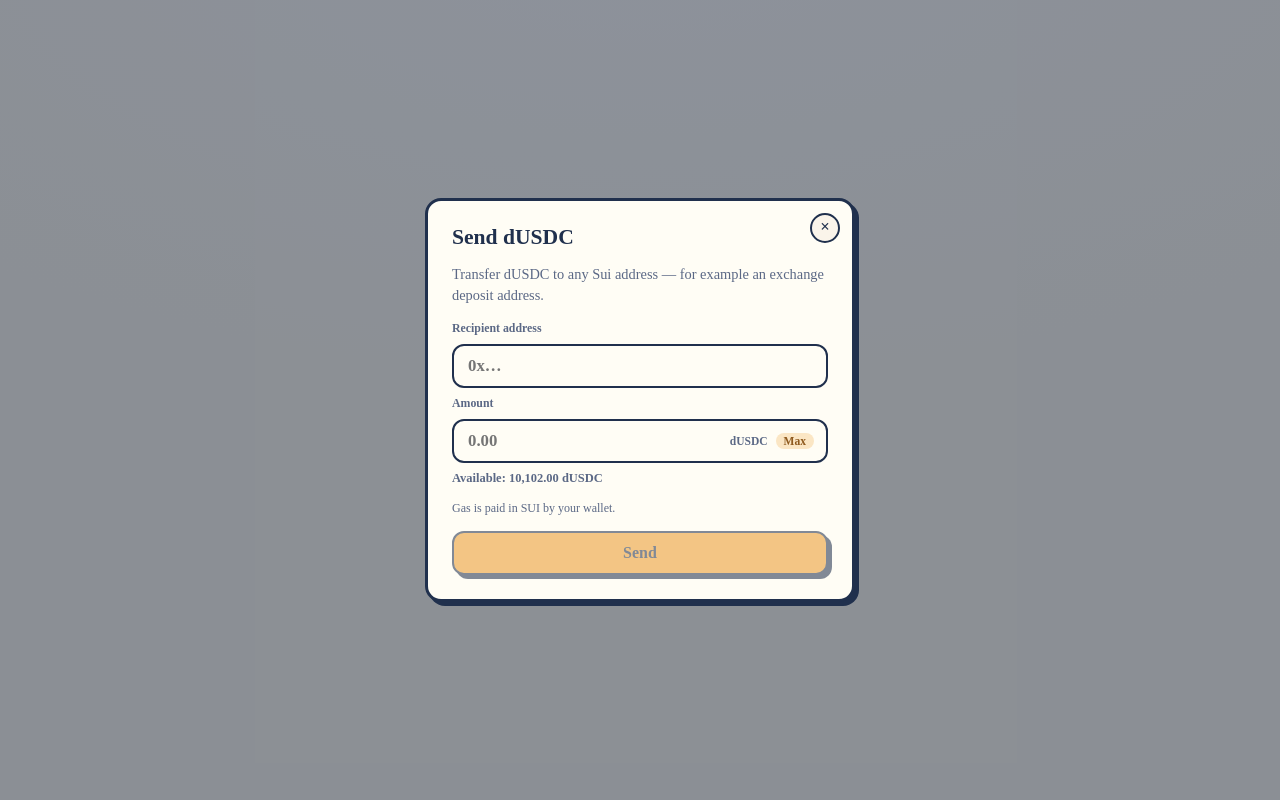
SendDialog form › keeps the plain CTA while the amount exceeds Available, with the inline error
Type "999999" into the field labelled "Amount dUSDC Max".
click(595, 441); type("999999")  # box [466,430,724,452]
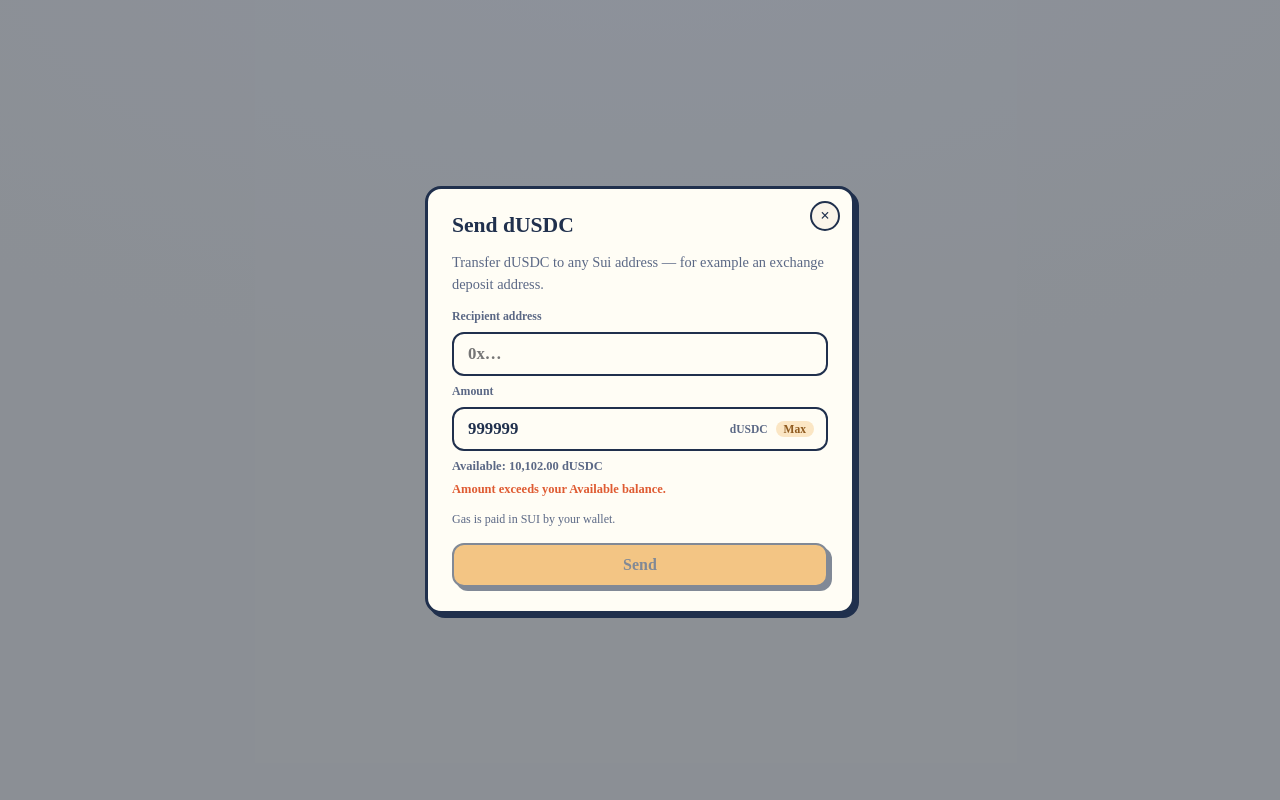
Expected: the button "Send" is disabled, [452,543,828,587]
Now the text "Amount exceeds your Available balance." is shown, box [452,482,666,496]
